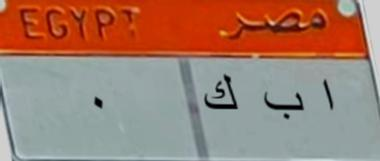0: (84, 86, 115, 117)
alif: (310, 72, 338, 115)
baa: (258, 84, 307, 124)
kaaf: (202, 70, 239, 120)
